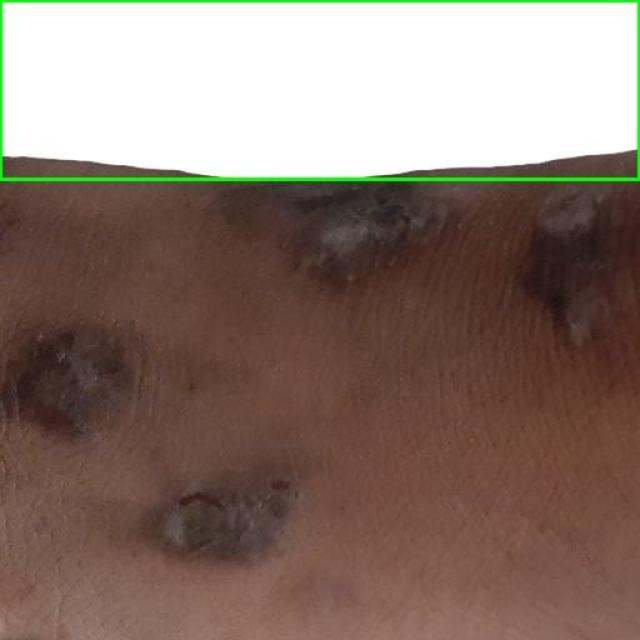Contact Dermatitis: (0, 0, 639, 179)
